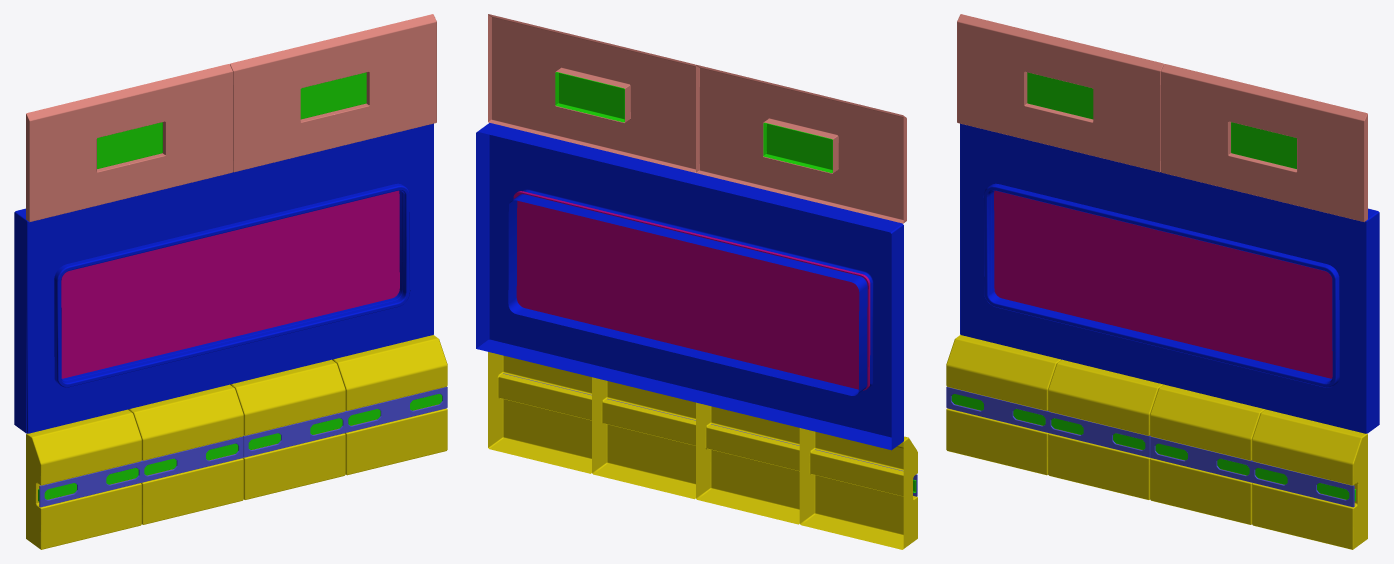
The model's file is Window_B.fbx.
3 renders of one model, left to right at view 1: azimuth 30°, elevation 25°; view 2: azimuth 150°, elevation 25°; view 3: azimuth 330°, elevation 25°, orthographic.
Parts seen in each view (by area): view 1: Window_B; view 2: Window_B; view 3: Window_B.
Part boxes in pixels (left/top/right/bottom): Window_B: left=14, top=14, right=447, bottom=549; Window_B: left=476, top=14, right=917, bottom=549; Window_B: left=946, top=14, right=1379, bottom=549.
Bounding box in the file's own units: 4 × 4 × 0.45.
